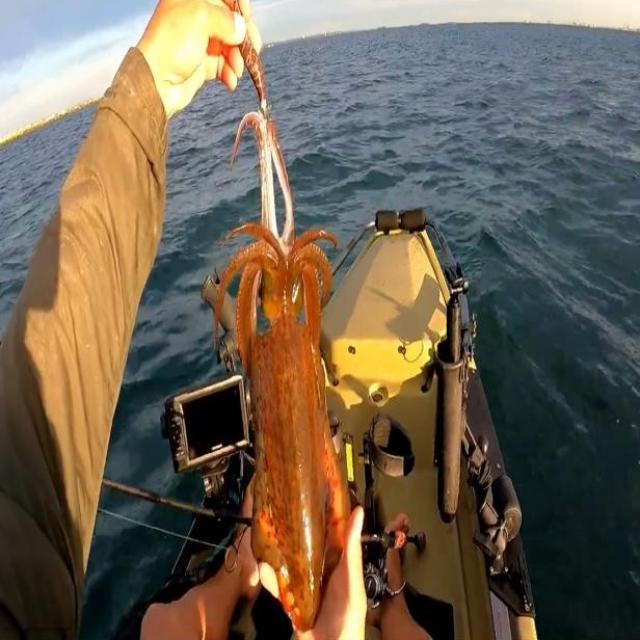SQUID: (209, 66, 368, 640)
